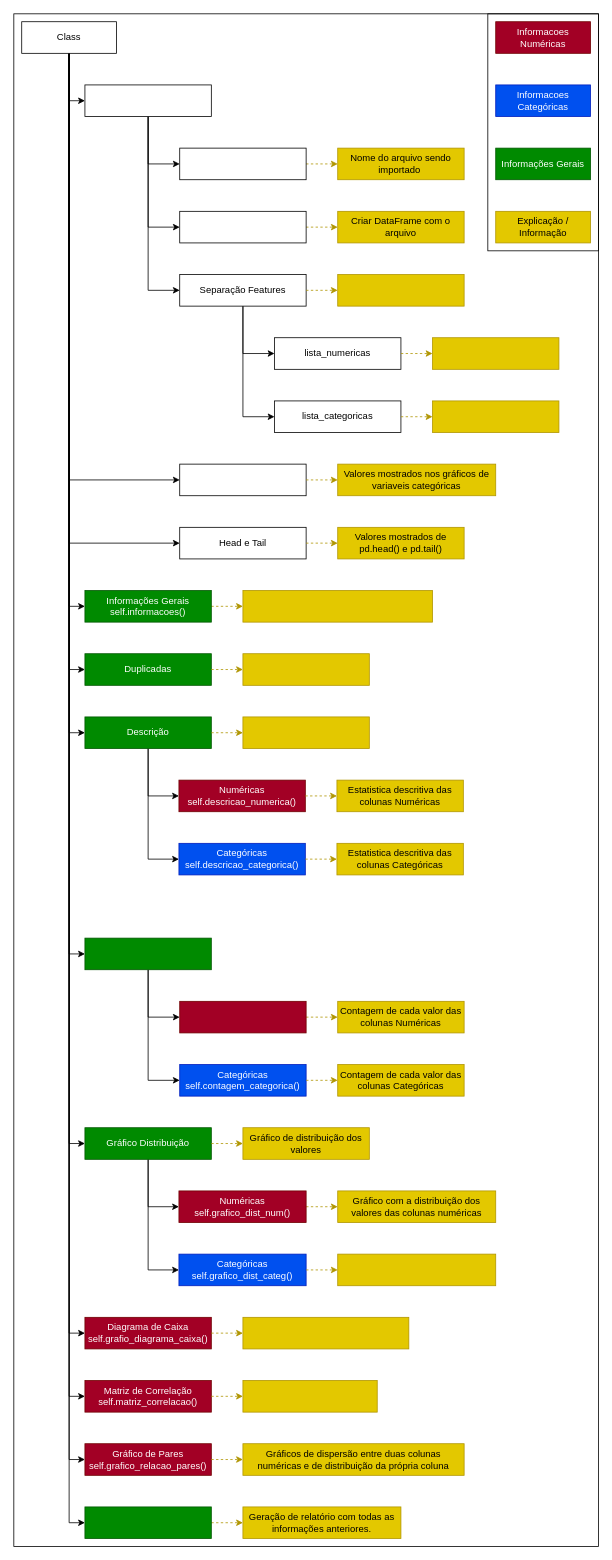
This 612x1560 diagram has some shape labels left out. The box of each missing label's shape, as (x1, y1, x2, y2) in pixels:
__init__: (84, 84, 211, 117)
Contagem Valores: (84, 937, 211, 970)
Distribuição dos dados nos quartis e visualização de outliers: (242, 1317, 409, 1349)
Estatística descritiva do DataFrame: (242, 716, 369, 749)
Gráfico com a distribuição dos valores das colunas categóricas: (337, 1253, 496, 1286)
Heatmap de correlação das colunas numéricas: (242, 1380, 377, 1412)
Importar CSV: (179, 211, 306, 243)
Informações do DataFrame: Colunas, Tipos de Dados, Nulos e Únicos: (242, 590, 433, 622)
Lista Colunas Categóricas: (432, 400, 559, 433)
Lista Colunas Numéricas: (432, 337, 559, 369)
Nome Arquivo: (179, 147, 306, 180)
Numéricas self.contagem_numerica(): (179, 1001, 306, 1033)
Relatório self.relatorio(): (84, 1506, 211, 1539)
Separar Numéricas e Categóricas: (337, 274, 464, 306)
Valores Categóricos: (179, 463, 306, 496)
Verificação de linhas duplicadas no Dataset: (242, 653, 369, 685)
